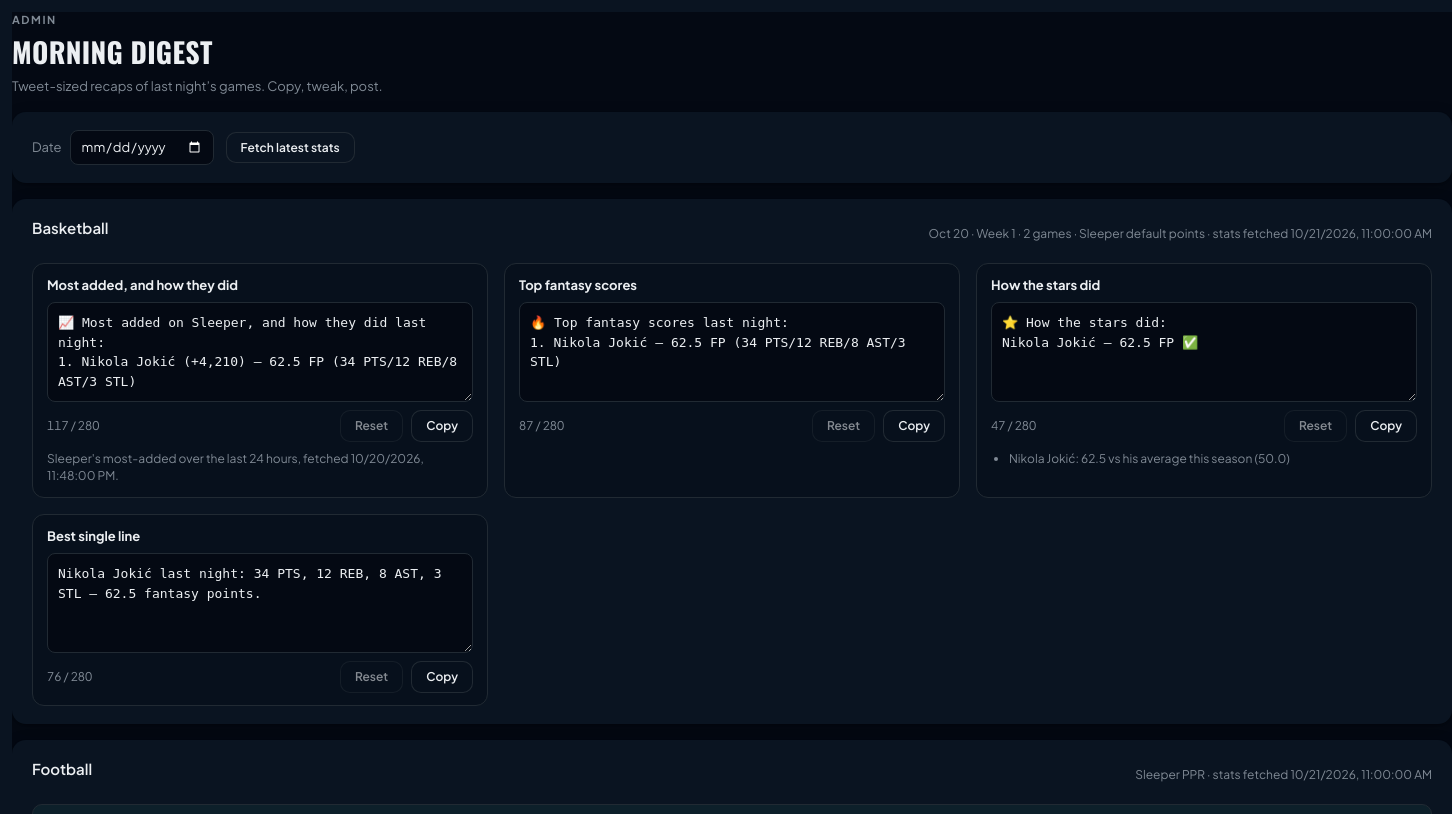
Test: AdminDigest › keeps the copy-blocked hint until the next action (L7)
Click the button "Copy" in the row of "76 / 280": (442, 677) [411,662,473,693]
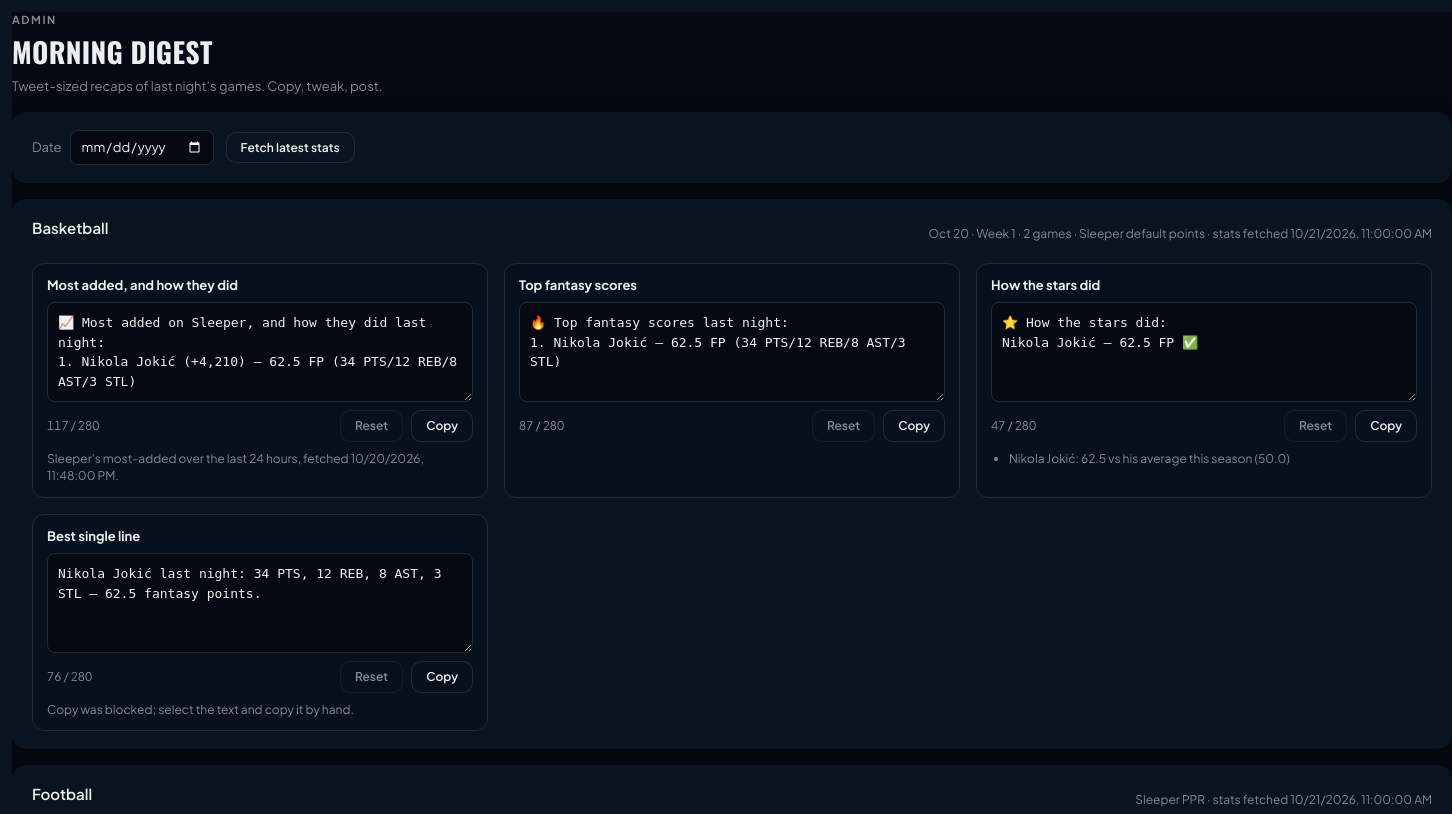
Now the text "Copy was blocked; select the text and copy it by hand." is shown, box [47,702,354,717]
